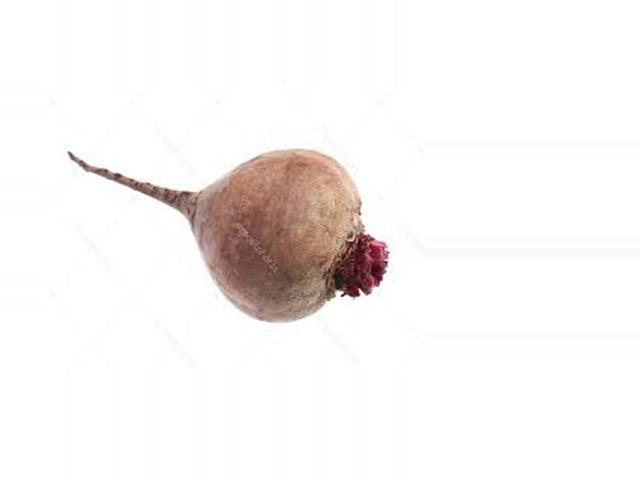beet: (67, 148, 386, 326)
